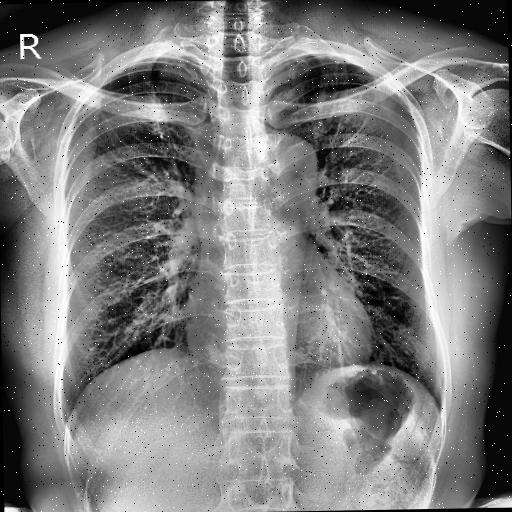0- Aortic enlargement: (248, 131, 320, 222), (258, 134, 319, 198), (260, 134, 318, 187)
11- Pleural thickening: (102, 62, 130, 84)
